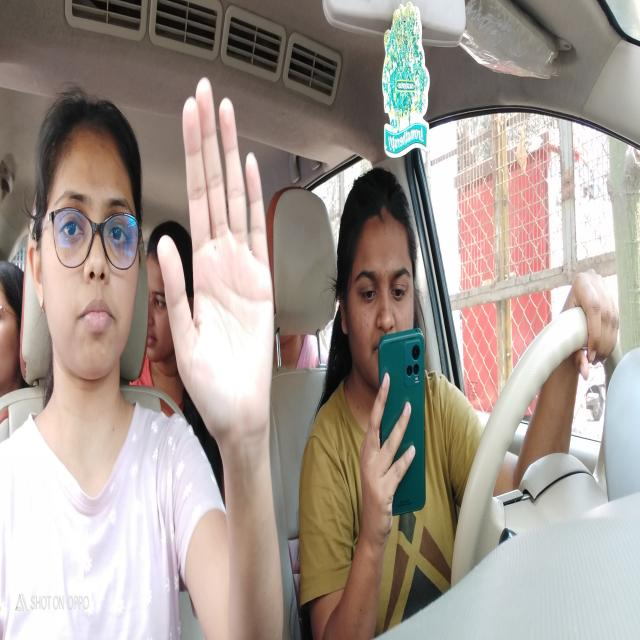mobile: (374, 326, 440, 526)
person: (22, 62, 155, 394), (333, 156, 429, 404), (148, 209, 196, 383)
